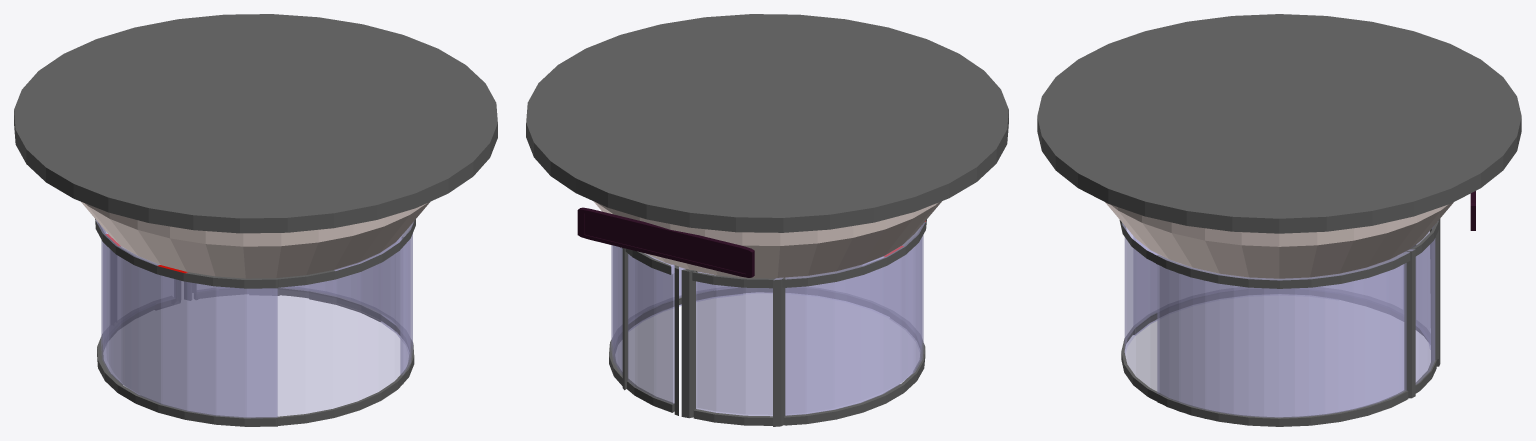
Rendered from Gate_FullAsset.fbx.
3 views of the same model, side by side, from view 1: azimuth 30°, elevation 25°; view 2: azimuth 150°, elevation 25°; view 3: azimuth 270°, elevation 25° (orthographic).
Visible parts, largest first — view 1: Gate, RightDoor.004, LeftDoor; view 2: Gate, RightDoor.004, LeftDoor, GateSign; view 3: Gate, LeftDoor, RightDoor.004.
Boxes of the visible parts, box(x1,y1,x2,y2) form: Gate: box(14, 14, 497, 426); RightDoor.004: box(97, 222, 278, 426); LeftDoor: box(184, 222, 413, 383); Gate: box(526, 14, 1008, 426); RightDoor.004: box(681, 222, 924, 425); LeftDoor: box(611, 245, 742, 415); GateSign: box(577, 207, 754, 277); Gate: box(1037, 14, 1521, 426); LeftDoor: box(1156, 219, 1440, 423); RightDoor.004: box(1133, 231, 1430, 349).
Size of the model in its own units: 38.87 by 21.6 by 38.87.
Materials: 3 (2 with a texture image).
